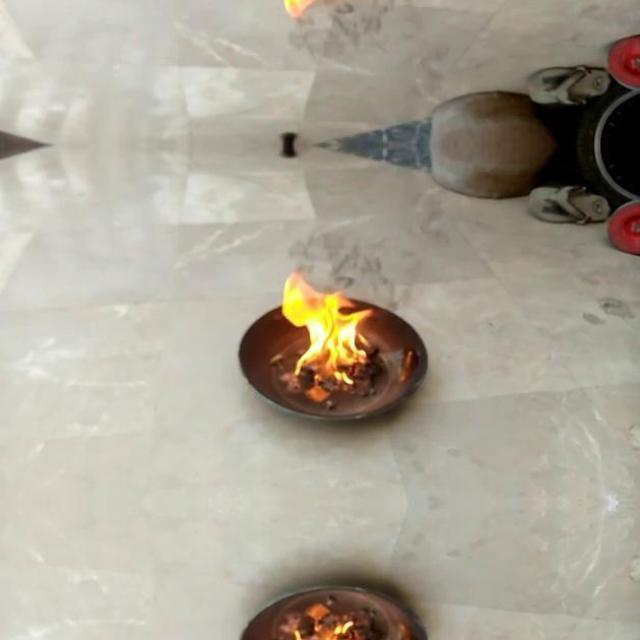smoke: (280, 269, 386, 399), (280, 606, 386, 640)
